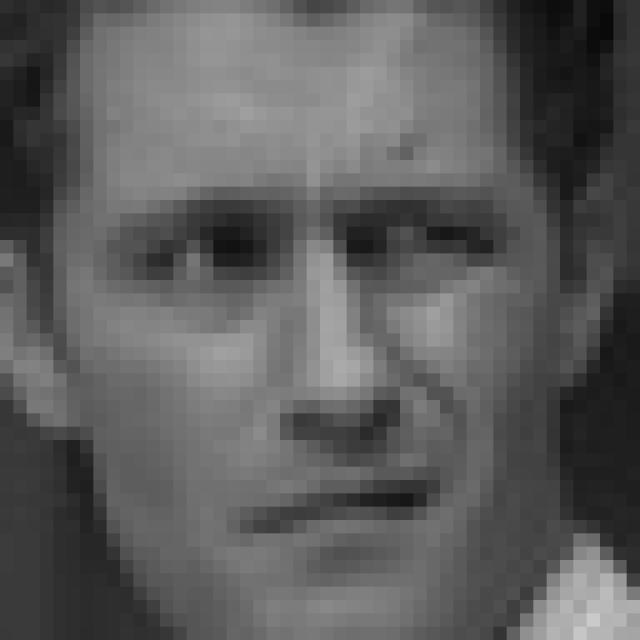disgust: (102, 160, 514, 575)
